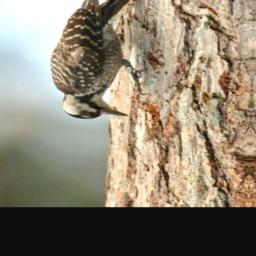Woodpecker: (47, 0, 153, 124)
